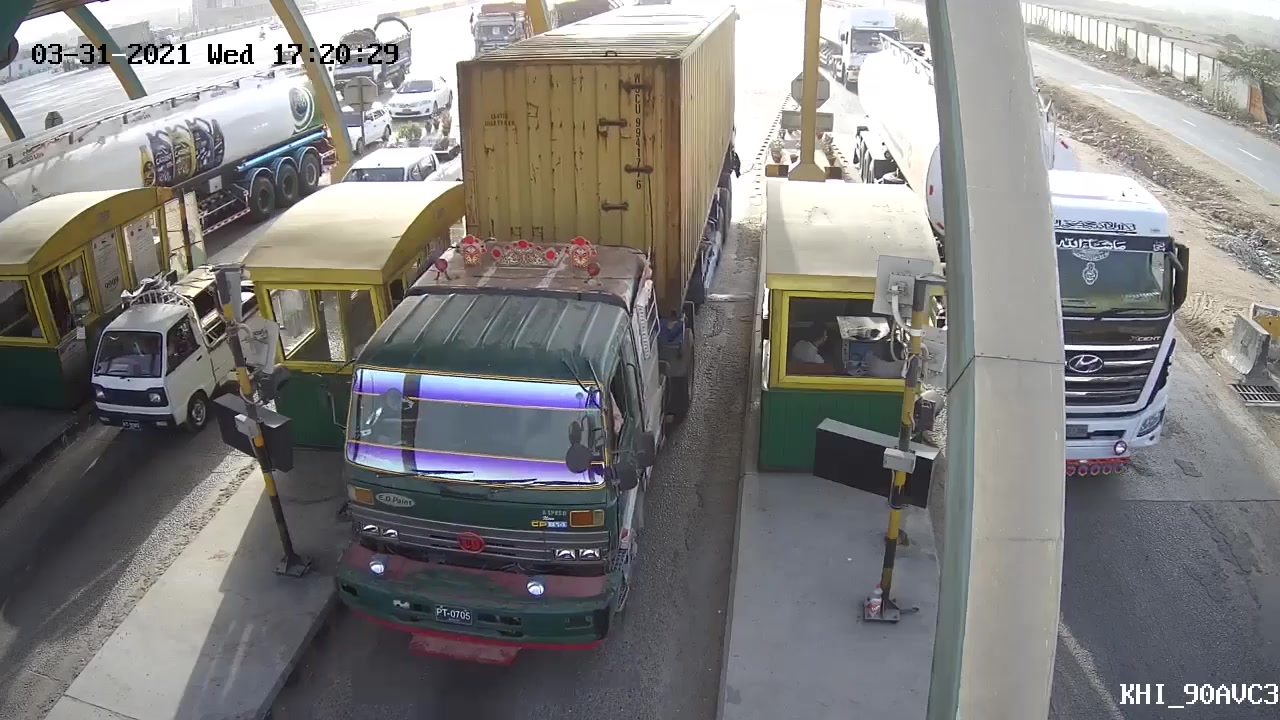F6: (329, 2, 741, 655)
